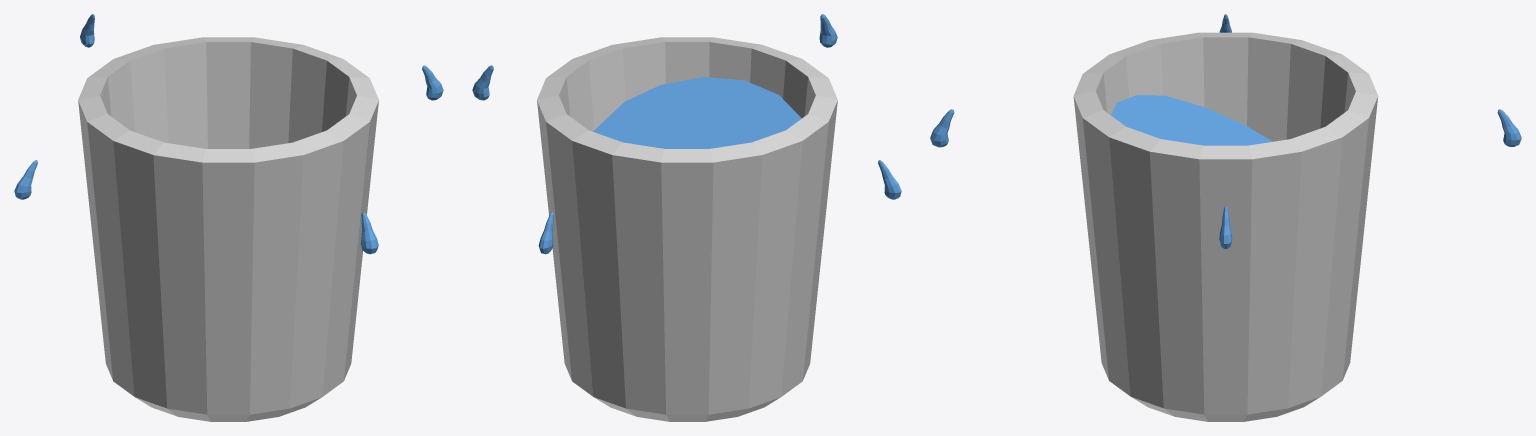
The model's file is Bucket+Water_Combined_V1.fbx.
3 renders of one model, left to right at view 1: azimuth 30°, elevation 25°; view 2: azimuth 150°, elevation 25°; view 3: azimuth 270°, elevation 25°, orthographic.
Visible parts, largest first — view 1: Bucket_V2, Water_Drops_4.001, Water_Drops_3.001, Water_Drops_2.001; view 2: Bucket_V2, Water_Liquid, Water_Drops_3.001, Water_Drops_2.001, Water_Drops_4.001, Water_Drops_1.001; view 3: Bucket_V2, Water_Liquid.
Part boxes in pixels (<box>): Bucket_V2: <box>78,37,378,421</box>; Water_Drops_4.001: <box>360,212,378,254</box>; Water_Drops_3.001: <box>14,160,37,199</box>; Water_Drops_2.001: <box>422,65,443,100</box>; Bucket_V2: <box>537,37,837,421</box>; Water_Liquid: <box>593,77,801,148</box>; Water_Drops_3.001: <box>878,160,901,199</box>; Water_Drops_2.001: <box>472,65,493,100</box>; Water_Drops_4.001: <box>819,14,837,47</box>; Water_Drops_1.001: <box>538,212,553,254</box>; Bucket_V2: <box>1073,32,1378,421</box>; Water_Liquid: <box>1111,95,1272,145</box>.
Size of the model in its own units: 491 by 312 by 581.
